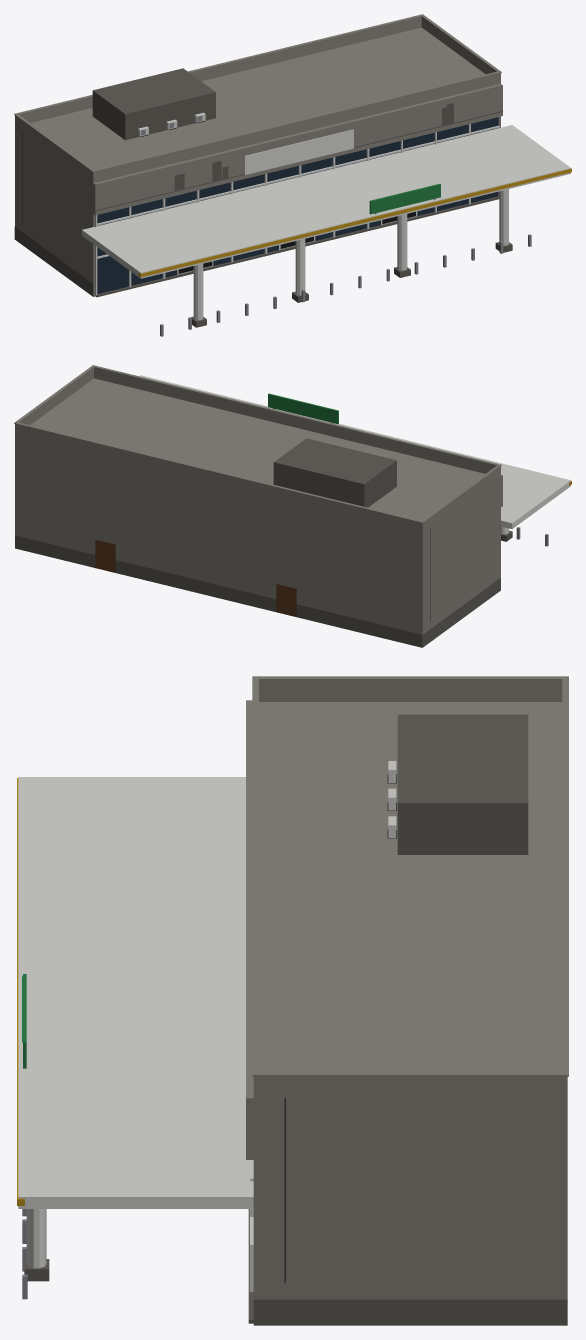
The model's file is bld_terminal-front.glb.
3 renders of one model, top to bottom at view 1: azimuth 30°, elevation 25°; view 2: azimuth 150°, elevation 25°; view 3: azimuth 270°, elevation 25°, orthographic. The views are drawn at different scales.
Visible parts, largest first — view 1: body; view 2: body; view 3: body.
Part boxes in pixels (x1,y1,x2,y2): body: (14,14,571,336); body: (14,365,571,647); body: (17,676,568,1325).
Bounding box in the file's own units: 38.1 × 11.8 × 21.1.
